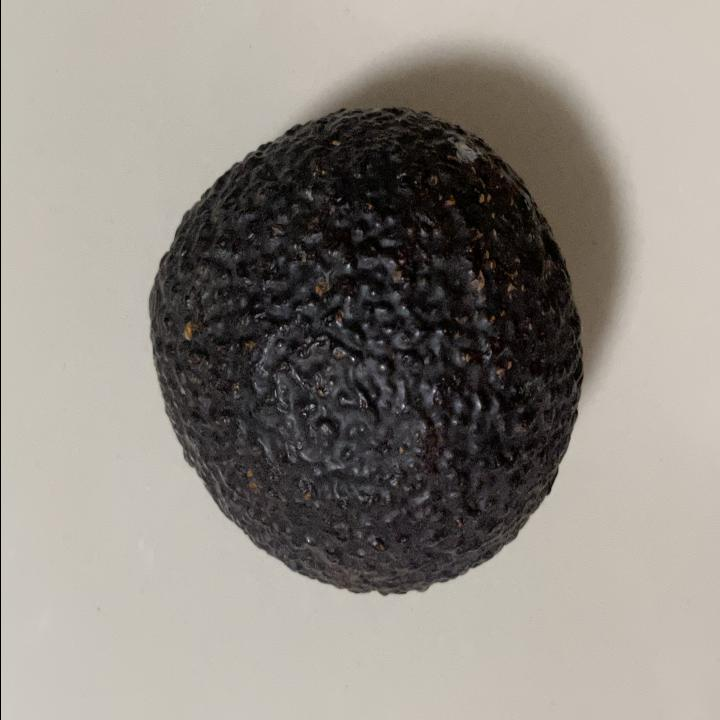Level3: (134, 97, 590, 608)
